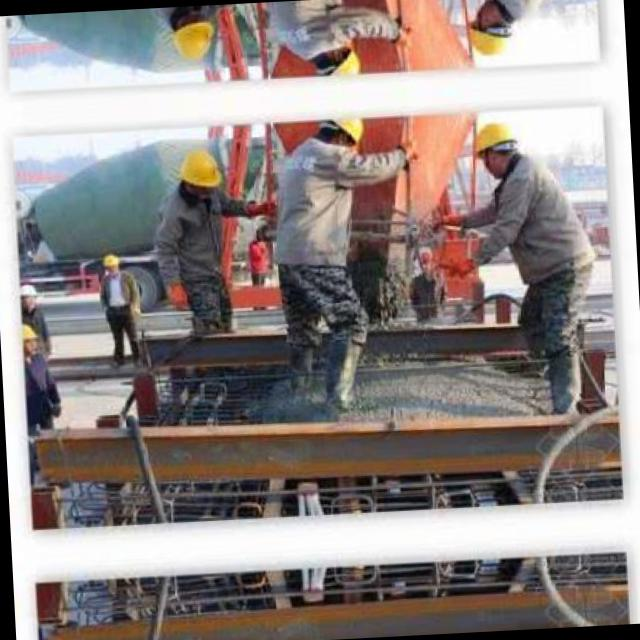helmet: (467, 114, 521, 178), (461, 0, 515, 64), (170, 5, 218, 67), (303, 38, 368, 83), (307, 112, 372, 156), (176, 143, 222, 205), (21, 321, 42, 362), (20, 278, 39, 318), (100, 250, 118, 276)
